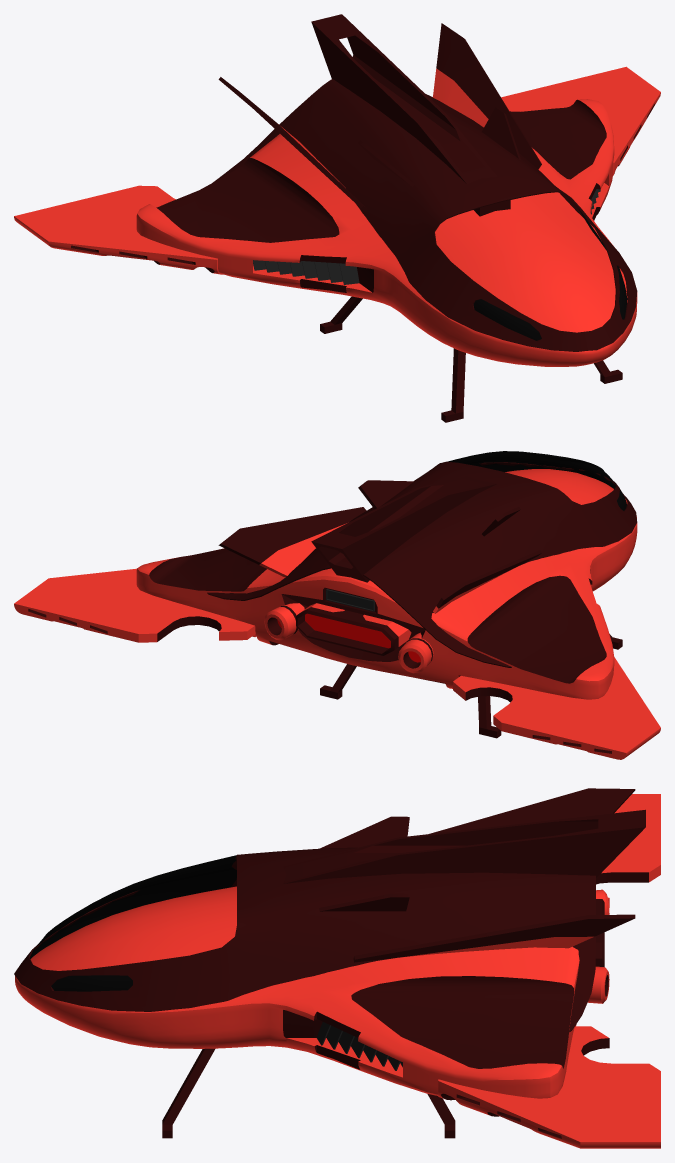
Rendered from Spaceship4scene.fbx.
The picture shows the model from 3 angles, top to bottom: view 1: azimuth 30°, elevation 25°; view 2: azimuth 150°, elevation 25°; view 3: azimuth 270°, elevation 25°; orthographic projection. The views are drawn at different scales.
Parts seen in each view (by area): view 1: Plane.018, Plane.019, Cube.044, Plane.025, Plane.024, Cube.053, Plane.022, Plane.023; view 2: Plane.018, Plane.019, Cube.044, Plane.025, Plane.024, Cube.040, Plane.020, Cylinder.013, Cube.053, Cube.050; view 3: Plane.018, Plane.019, Cube.044, Plane.025, Plane.024, Plane.020, Cube.053, Plane.023, Plane.022, Cylinder.013.
Boxes of the visible parts, x1,y1,x2,y2 form: Plane.018: [136, 97, 637, 366]; Plane.019: [213, 79, 637, 351]; Cube.044: [14, 66, 660, 274]; Plane.025: [311, 14, 510, 216]; Plane.024: [218, 23, 541, 211]; Cube.053: [320, 296, 622, 422]; Plane.022: [253, 189, 600, 284]; Plane.023: [473, 266, 627, 340]; Plane.018: [136, 469, 637, 699]; Plane.019: [207, 461, 637, 667]; Cube.044: [14, 568, 660, 759]; Plane.025: [311, 476, 497, 582]; Plane.024: [218, 480, 541, 613]; Cube.040: [296, 603, 411, 655]; Plane.020: [448, 451, 615, 488]; Cylinder.013: [264, 603, 433, 673]; Cube.053: [320, 634, 622, 738]; Cube.050: [326, 589, 374, 611]; Plane.018: [15, 886, 579, 1098]; Plane.019: [14, 847, 595, 1032]; Cube.044: [438, 794, 660, 1148]; Plane.025: [283, 809, 645, 883]; Plane.024: [319, 788, 635, 962]; Plane.020: [29, 855, 236, 959]; Cube.053: [162, 1048, 455, 1138]; Plane.023: [51, 975, 132, 991]; Plane.022: [317, 1022, 402, 1070]; Cylinder.013: [588, 889, 609, 1003].
Size of the model in its own units: 597 by 216 by 469.
